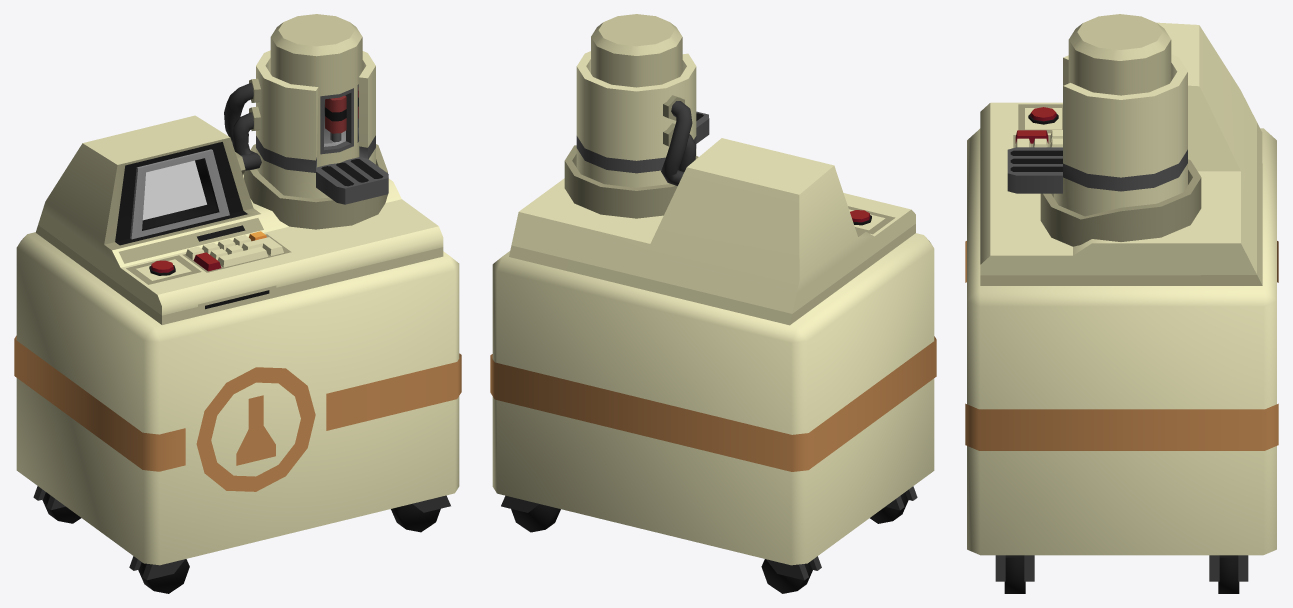
The model's file is ChemicalDispenser.fbx.
3 renders of one model, left to right at view 1: azimuth 30°, elevation 25°; view 2: azimuth 150°, elevation 25°; view 3: azimuth 270°, elevation 25°, orthographic. The views are drawn at different scales.
Parts seen in each view (by area): view 1: ChemicalDispenser, ChemicalDispenserContainer; view 2: ChemicalDispenser, ChemicalDispenserContainer; view 3: ChemicalDispenser, ChemicalDispenserContainer.
Boxes of the visible parts, box(x1,y1,x2,y2) form: ChemicalDispenser: box(14, 50, 461, 593); ChemicalDispenserContainer: box(270, 14, 362, 167); ChemicalDispenser: box(490, 51, 936, 593); ChemicalDispenserContainer: box(591, 14, 682, 87); ChemicalDispenser: box(965, 22, 1278, 593); ChemicalDispenserContainer: box(1068, 14, 1171, 95).
Bounding box in the file's own units: 0.9665 × 1.38 × 0.737.
